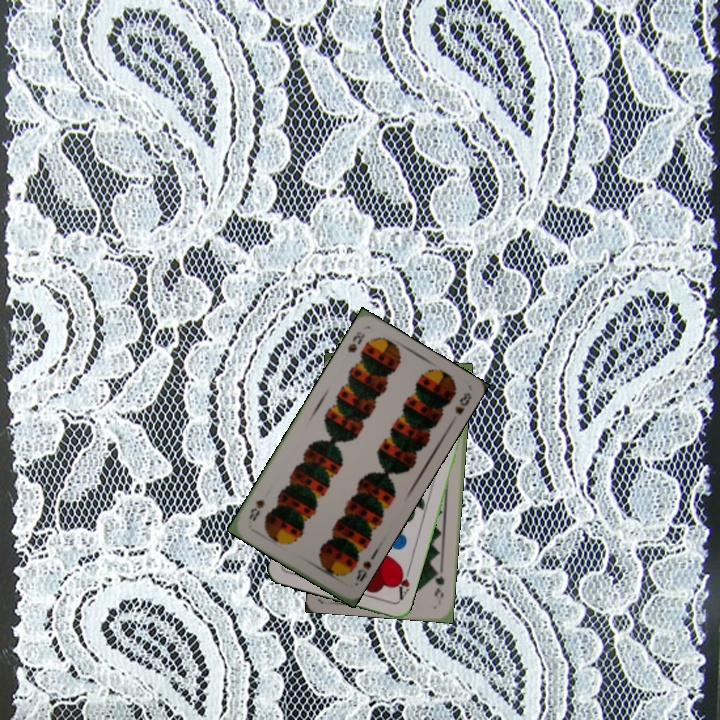G9: (430, 565, 447, 600)
HA: (392, 562, 413, 603)
S8: (343, 327, 368, 356), (352, 557, 374, 585)
